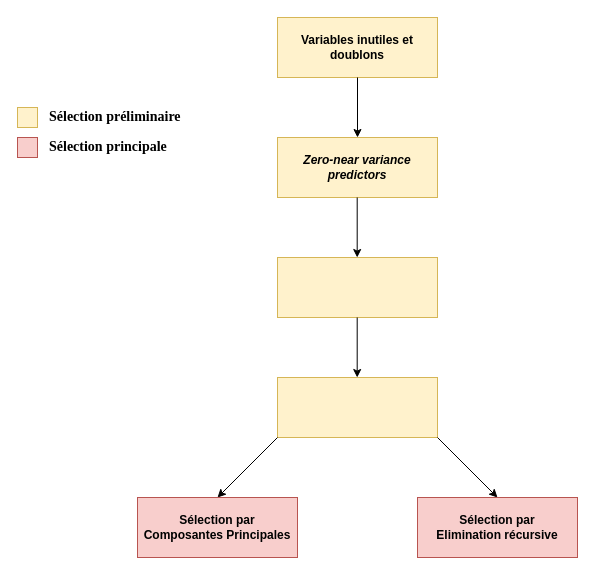
Image size: 595x575. Some labels were removed from this diagram. The shapes that lost their labels are listed below. From the top down, each one's centre as x and y in pixels, then its label:
At pixel 357 287: "VIF".
At pixel 357 407: "Rapports de corrélation".
